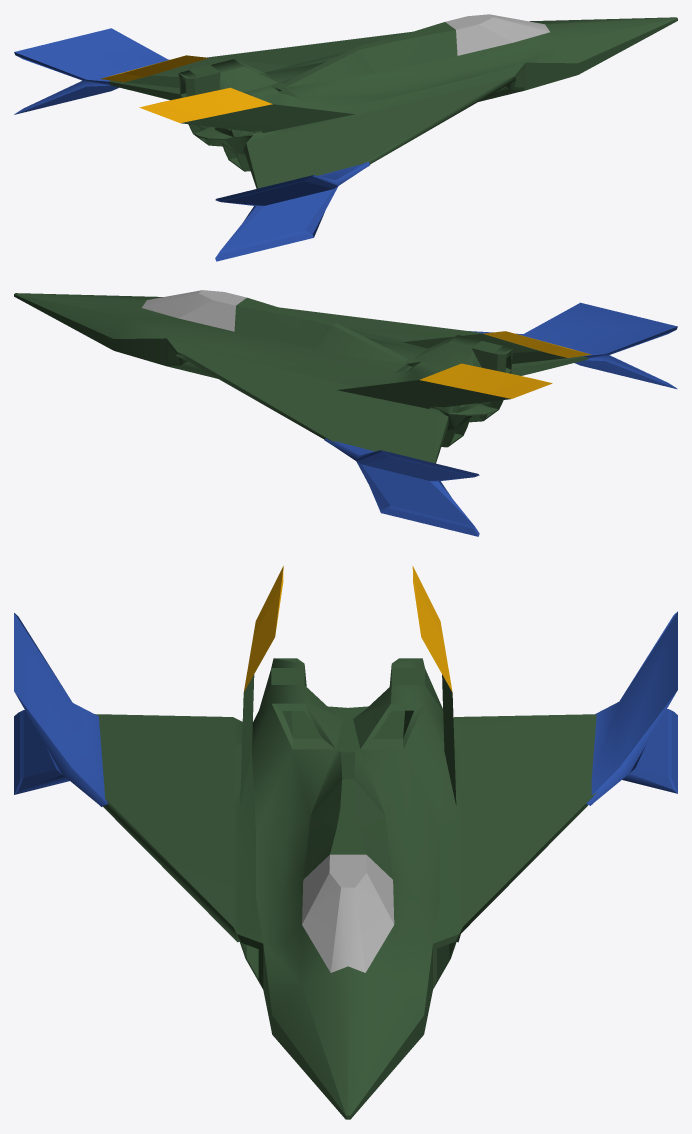
Rendered from RaceCraft001.fbx.
3 views of the same model, one above another, from view 1: azimuth 30°, elevation 25°; view 2: azimuth 150°, elevation 25°; view 3: azimuth 270°, elevation 25° (orthographic). The views are drawn at different scales.
Visible parts, largest first — view 1: Racecraft; view 2: Racecraft; view 3: Racecraft.
Boxes of the visible parts, x1,y1,x2,y2 form: Racecraft: (14,14,677,261); Racecraft: (14,290,677,536); Racecraft: (14,566,677,1119).
Size of the model in its own units: 1298 by 206 by 802.
